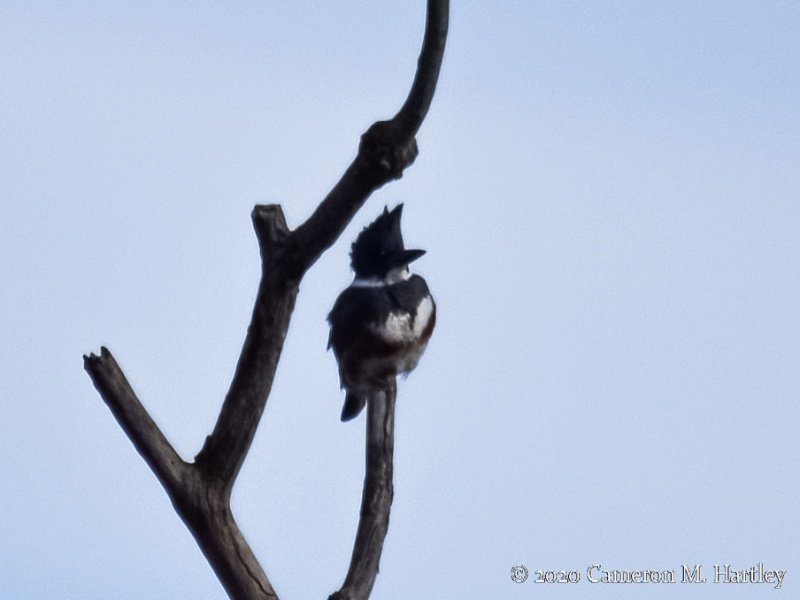kingfisher: (323, 199, 442, 430)
